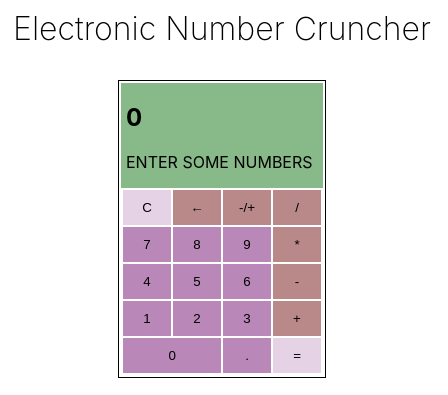
Test: check subtraction of number
Step 1. Click the button "7" → (147, 244), box top-left (122, 226), bottom-right (172, 263)
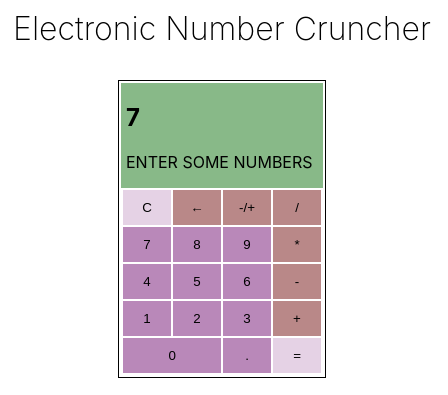
Step 2. Click the button "-" → (297, 281), box top-left (272, 263), bottom-right (322, 300)
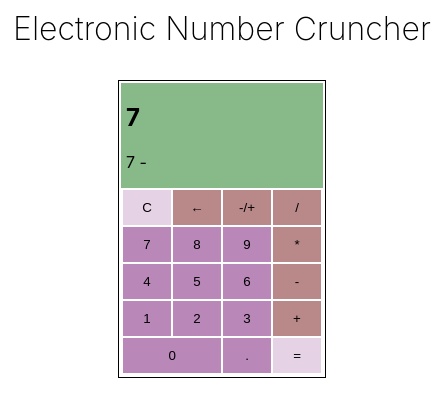
Step 3. Click the button "2" → (197, 318), box top-left (172, 300), bottom-right (222, 337)
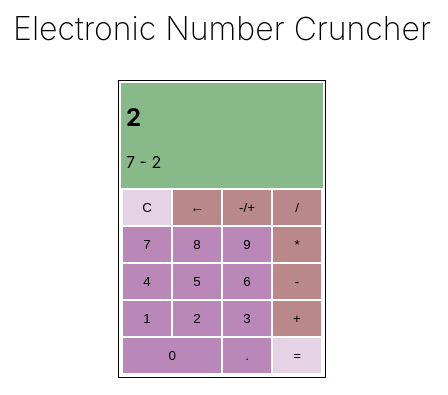
Step 4. Click the button "=" → (297, 355), box top-left (272, 337), bottom-right (322, 374)
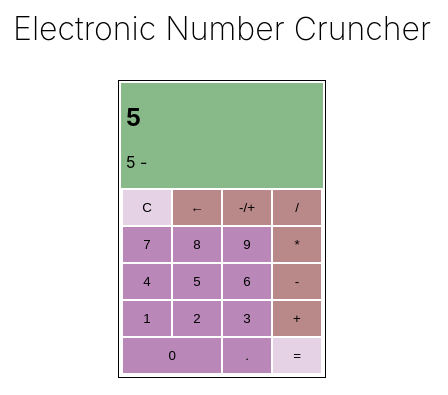
Result: the heading titled "display-numbers" reads "5" at top-left (126, 103), bottom-right (141, 132)
